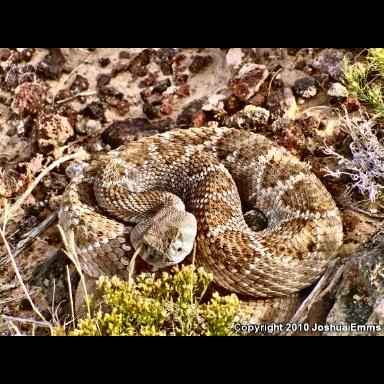snake: (59, 123, 345, 305)
